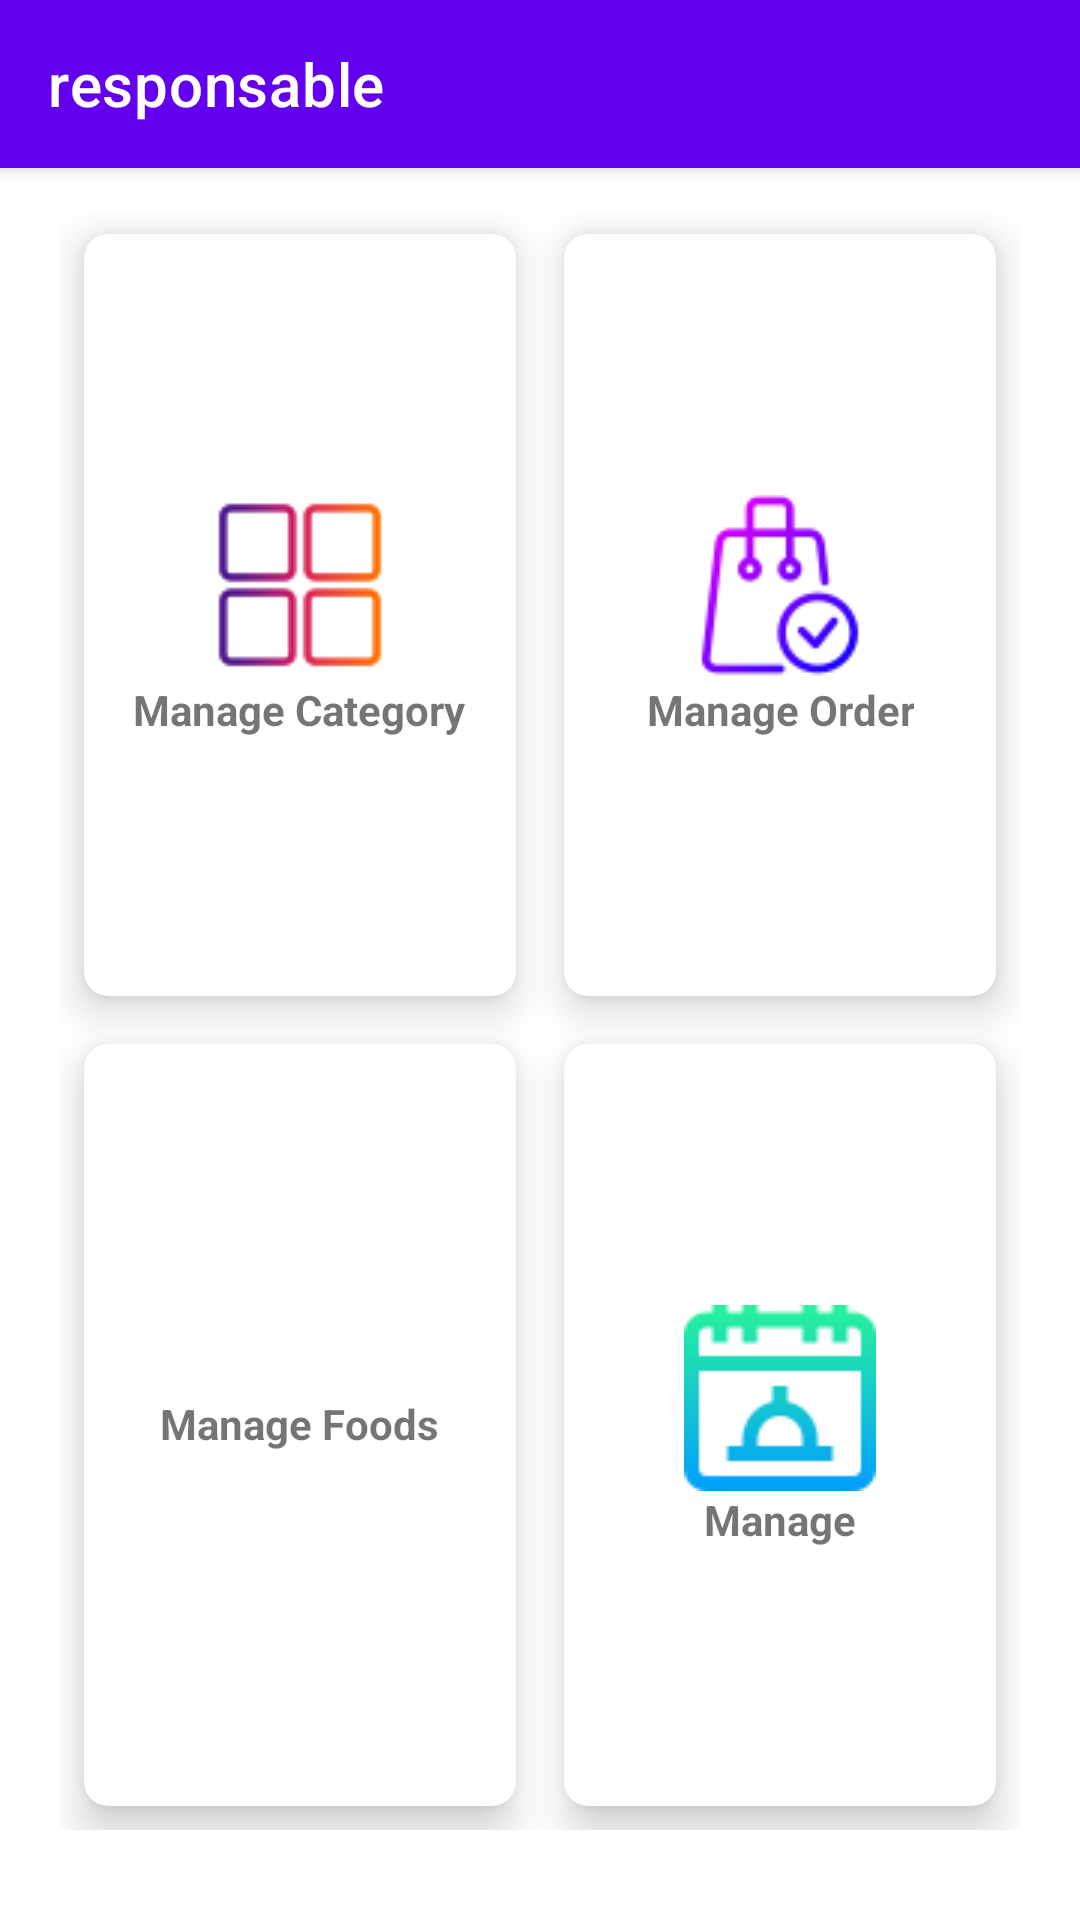

Locate icon controls on the screen. Image size 1080×1920, boxes as (x1, y1, x2, y2).
menu: (218, 503, 382, 667)
